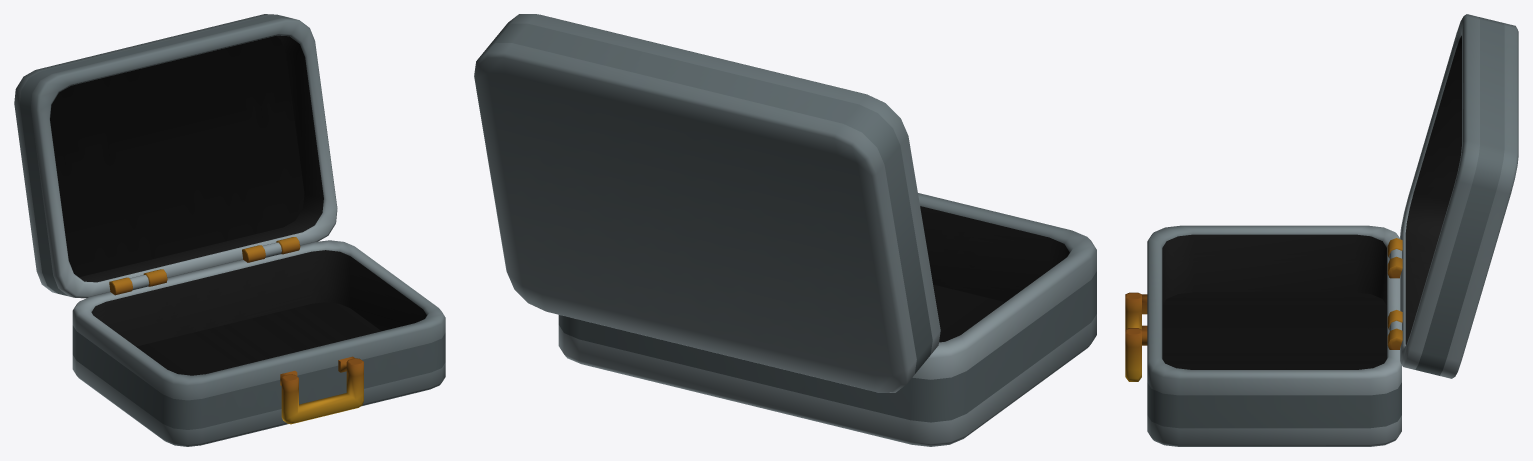
Rendered from Bomba.fbx.
3 renders of one model, left to right at view 1: azimuth 30°, elevation 25°; view 2: azimuth 150°, elevation 25°; view 3: azimuth 270°, elevation 25°, orthographic. The views are drawn at different scales.
Visible parts, largest first — view 1: Bomba; view 2: Bomba; view 3: Bomba.
Boxes of the visible parts, left/top/right/bottom form: Bomba: left=14, top=14, right=445, bottom=446; Bomba: left=474, top=14, right=1096, bottom=446; Bomba: left=1125, top=14, right=1518, bottom=446.
Bounding box in the file's own units: 280 × 254 × 309.
